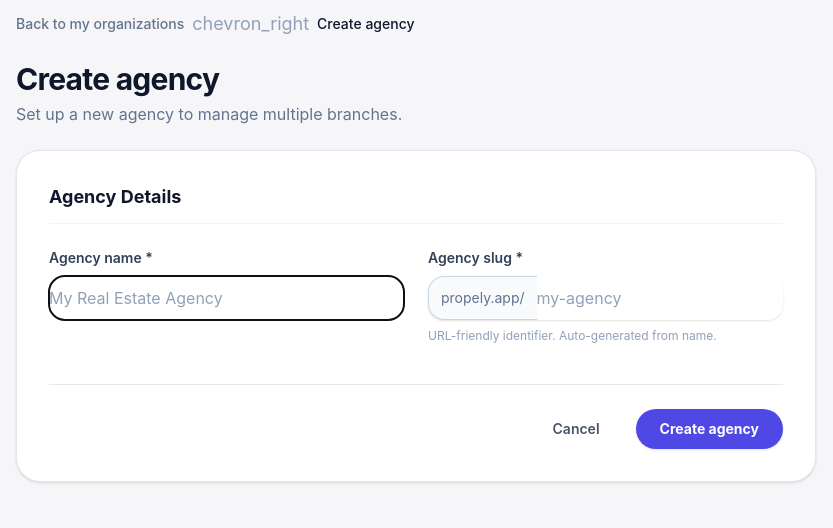
it: AgencyCreateForm › shows validation error for empty name
The width and height of the screenshot is (833, 528).
Click the button "Create agency". click: (709, 429)
box: [636, 409, 783, 449]
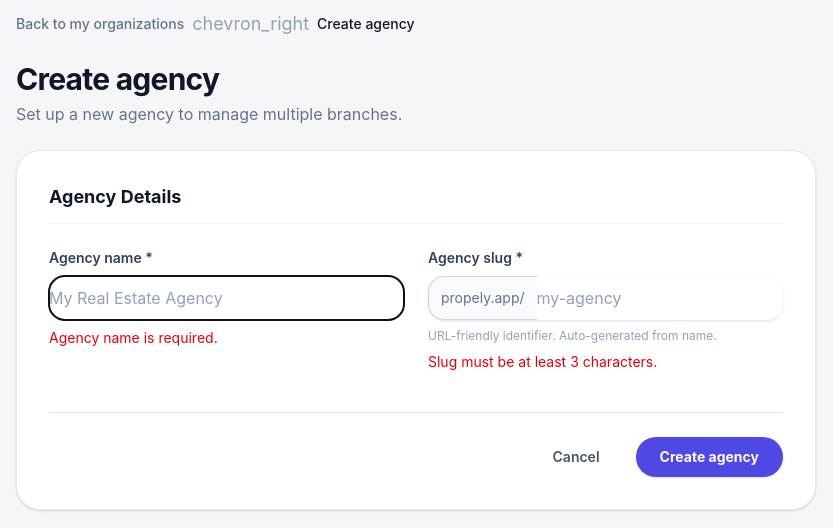
expect the text "Agency name is required." is shown: met, box [49, 329, 218, 346]
